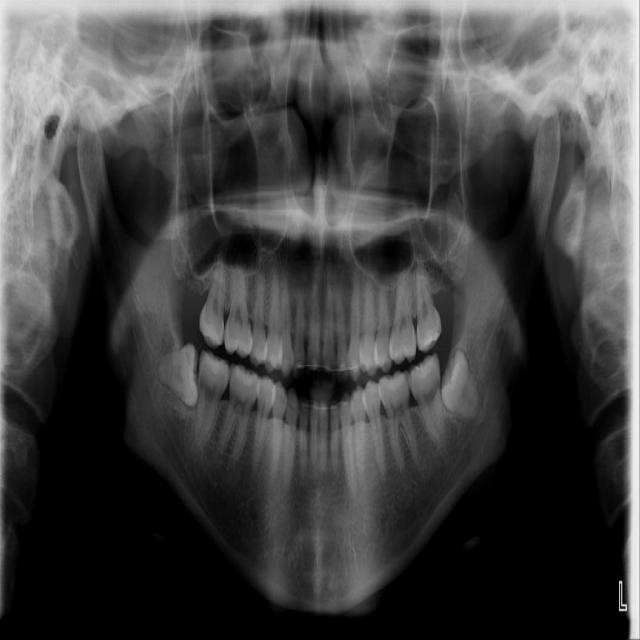impacted tooth: (155, 342, 198, 408), (442, 351, 484, 418)
